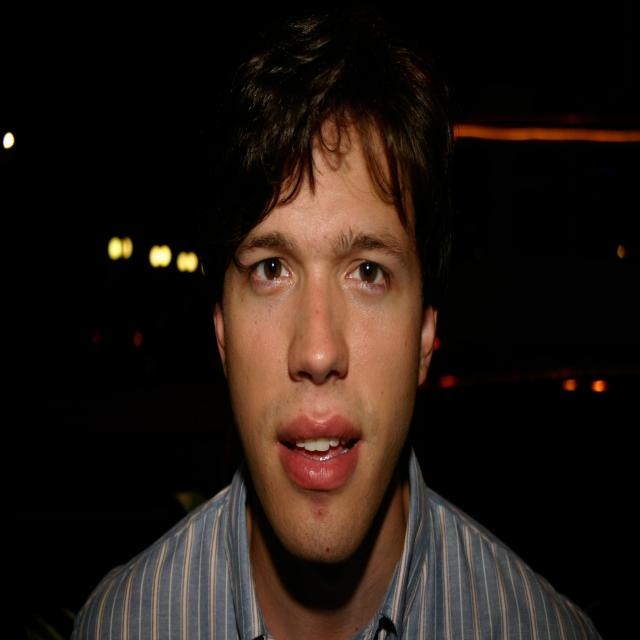Eyebags: (339, 279, 392, 321), (247, 279, 293, 316)
